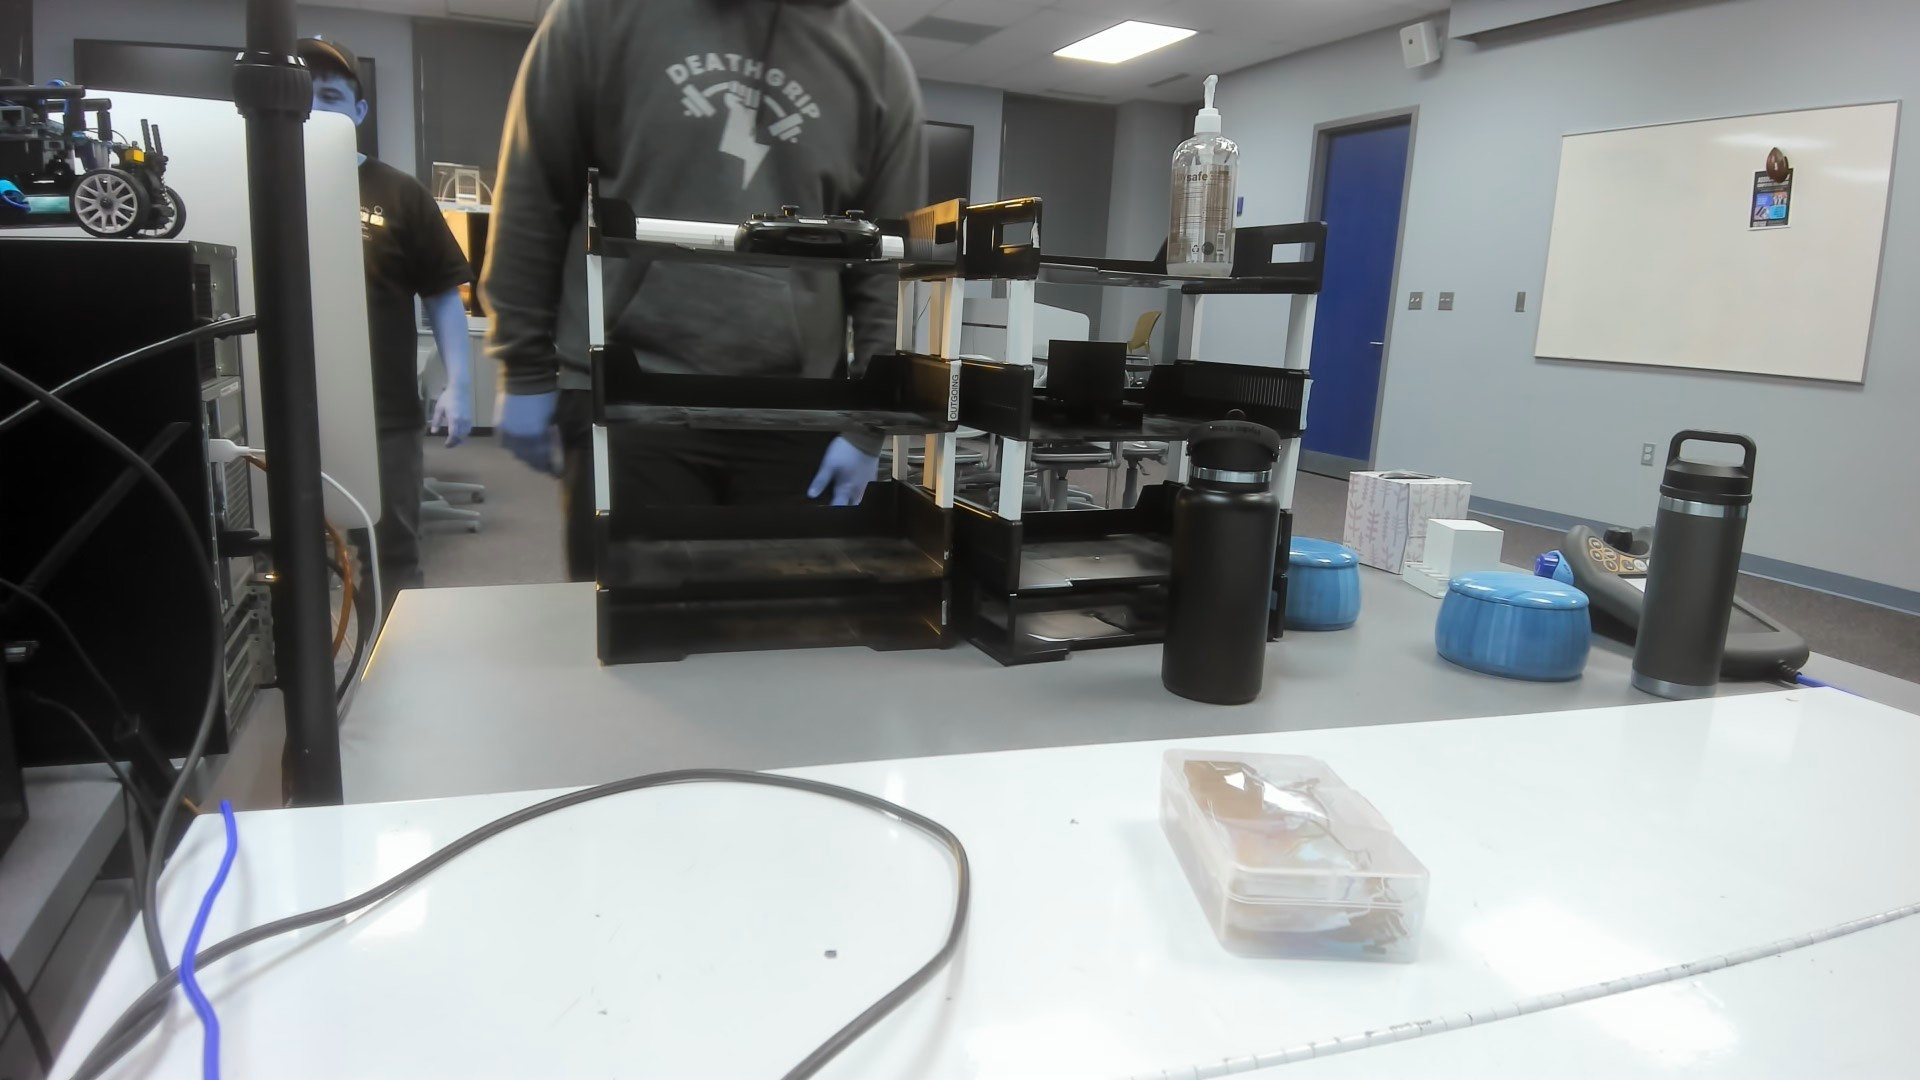black pallet: (1026, 336, 1153, 440)
white pallet: (1396, 516, 1507, 599)
